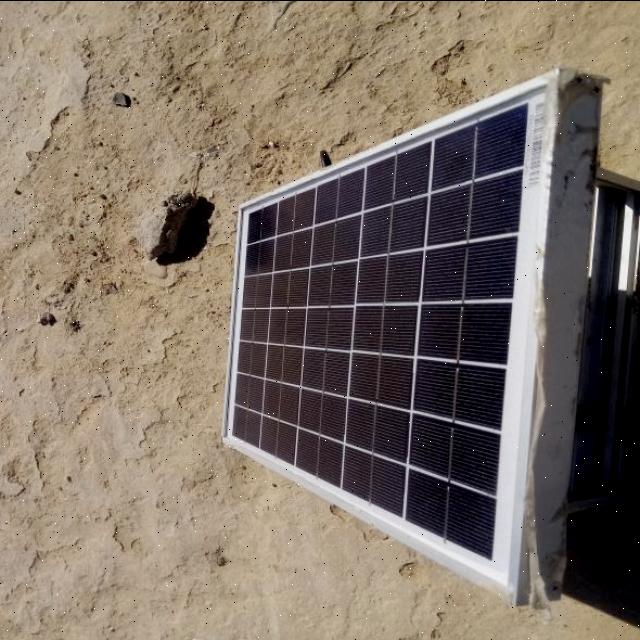Normal Solar Panel: (222, 73, 558, 600)
